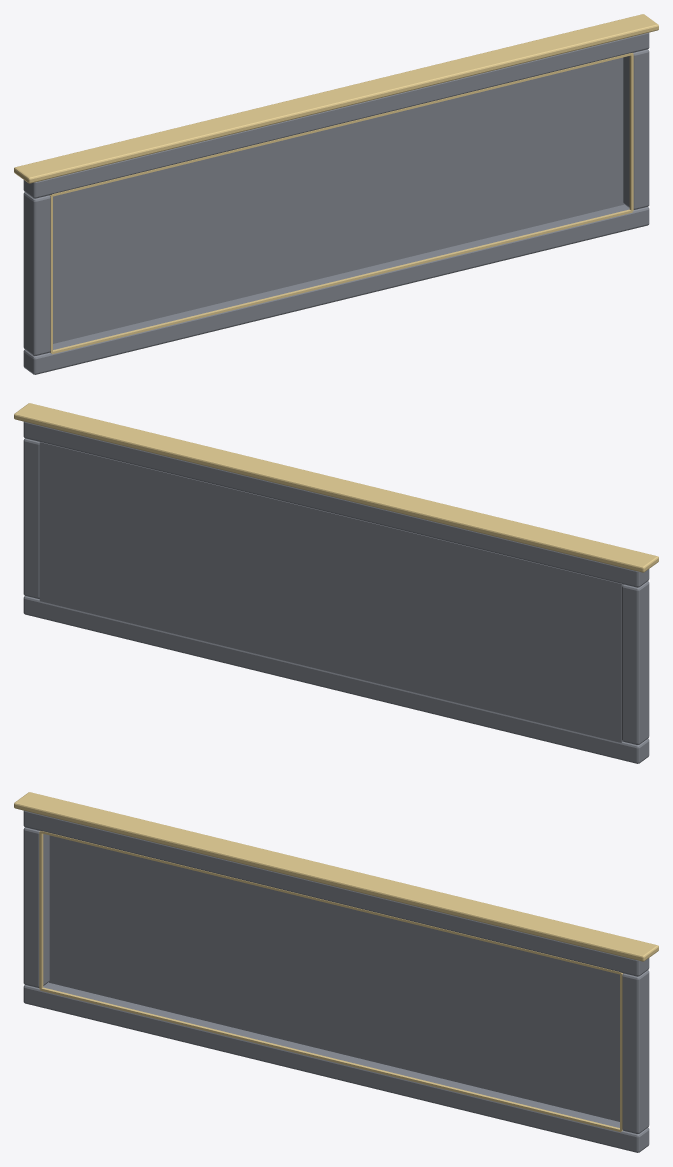
The model's file is prop_board_frame.glb.
3 renders of one model, top to bottom at view 1: azimuth 30°, elevation 25°; view 2: azimuth 150°, elevation 25°; view 3: azimuth 330°, elevation 25°, orthographic.
Parts seen in each view (by area): view 1: Frame; view 2: Frame; view 3: Frame.
Part boxes in pixels (bbox=[...]): Frame: bbox=[14, 14, 658, 374]; Frame: bbox=[14, 403, 658, 763]; Frame: bbox=[14, 792, 658, 1152].
Size of the model in its own units: 8.8 by 2.68 by 0.38.
